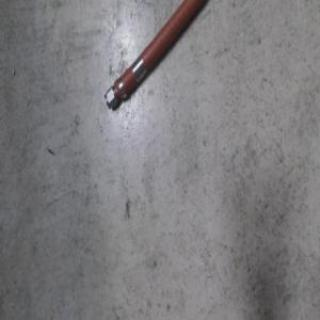Hosetrack_idkeyframe: (102, 0, 208, 111)
